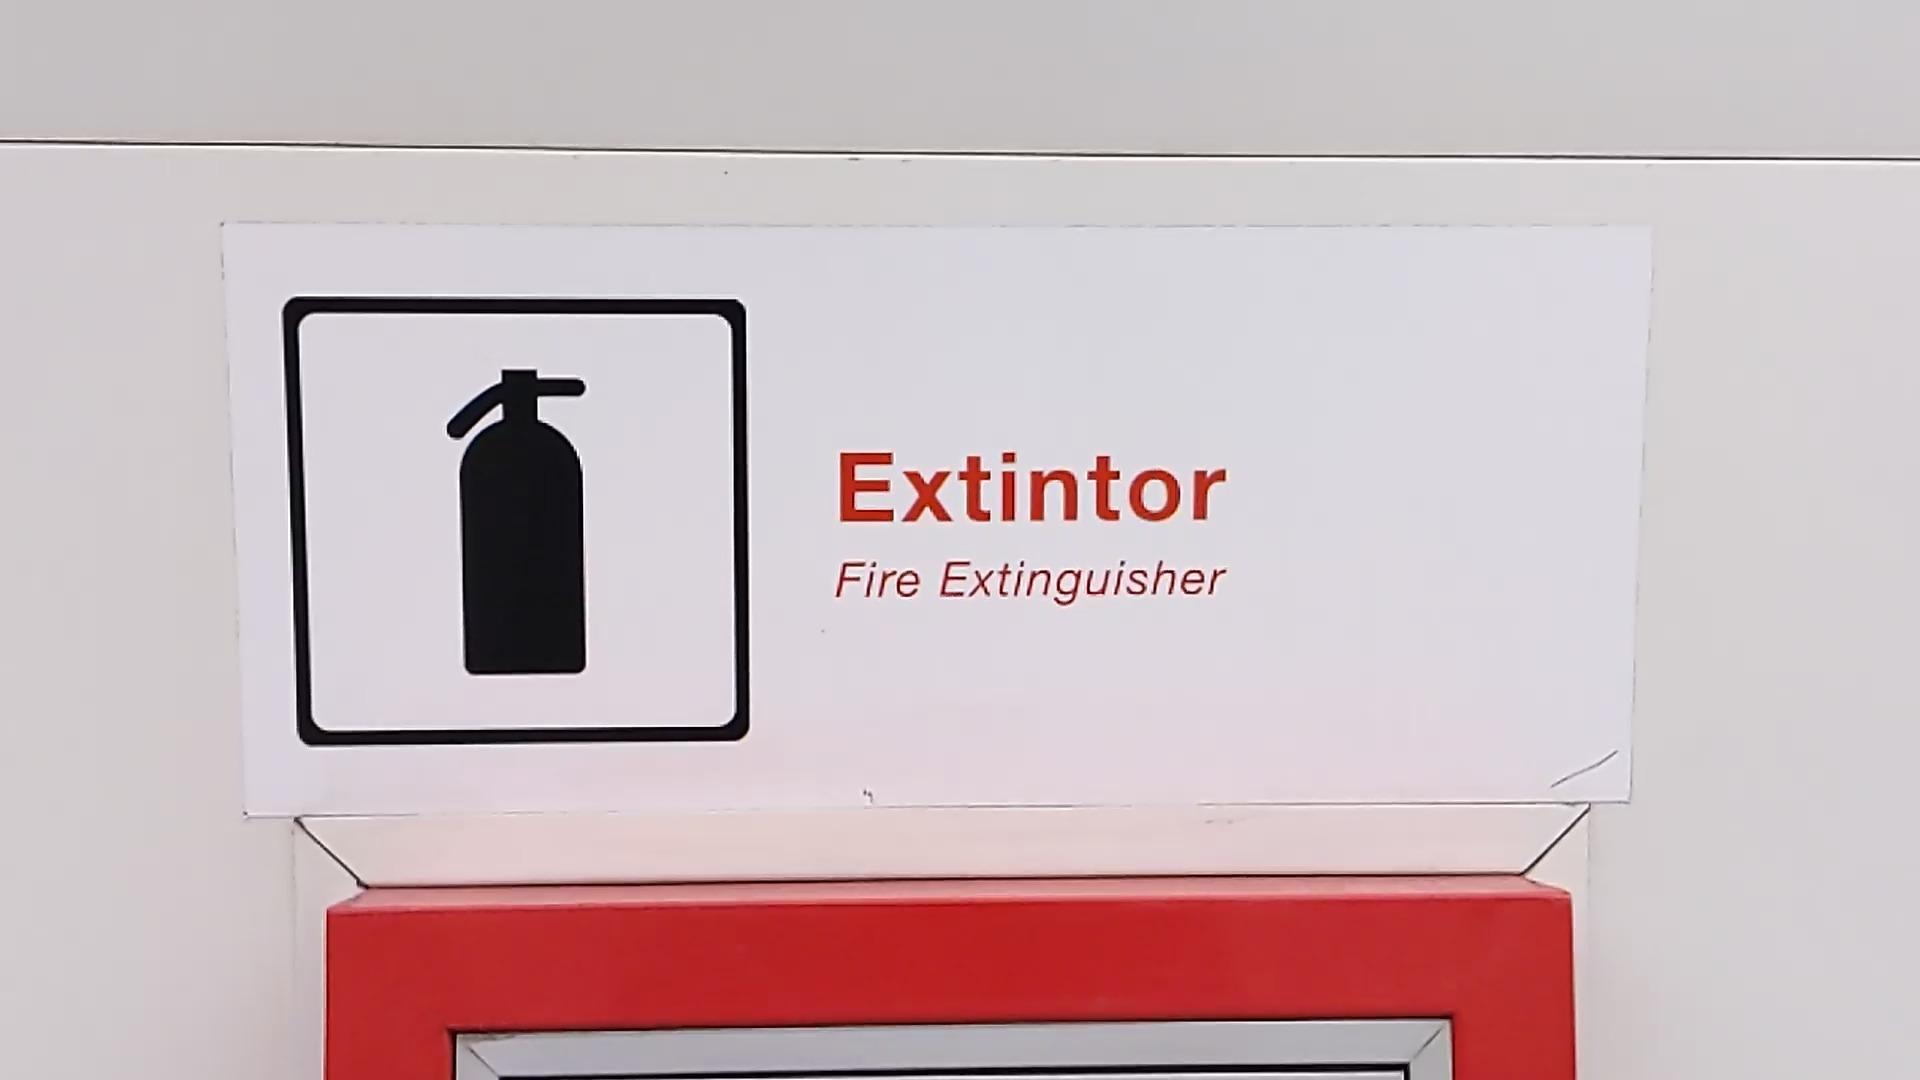extinguisher symbol: (446, 364, 592, 682)
